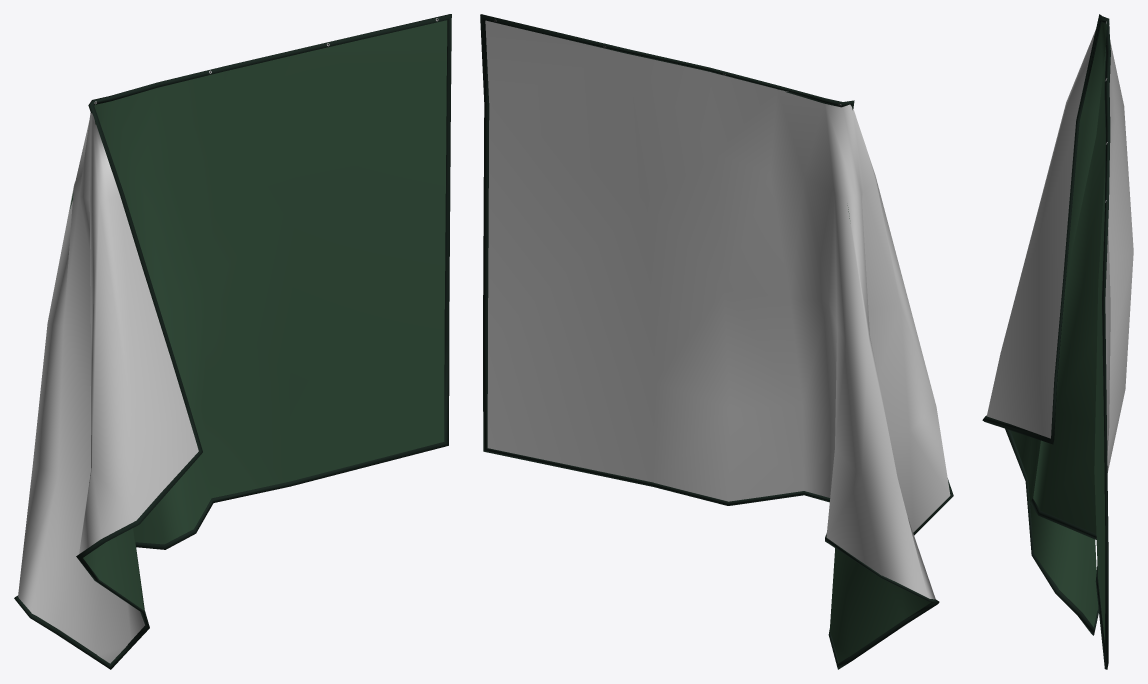
Rendered from SM_H_Tide_Dock_Fabric_01e_ATLAS.fbx.
3 renders of one model, left to right at view 1: azimuth 30°, elevation 25°; view 2: azimuth 150°, elevation 25°; view 3: azimuth 270°, elevation 25°, orthographic. The views are drawn at different scales.
Parts seen in each view (by area): view 1: SM_H_Tide_Dock_Fabric_01e_ATLAS; view 2: SM_H_Tide_Dock_Fabric_01e_ATLAS; view 3: SM_H_Tide_Dock_Fabric_01e_ATLAS.
Boxes of the visible parts, left/top/right/bottom form: SM_H_Tide_Dock_Fabric_01e_ATLAS: left=14, top=14, right=451, bottom=669; SM_H_Tide_Dock_Fabric_01e_ATLAS: left=480, top=14, right=953, bottom=669; SM_H_Tide_Dock_Fabric_01e_ATLAS: left=982, top=14, right=1133, bottom=669.
Bounding box in the file's own units: 309 × 85.34 × 381.
